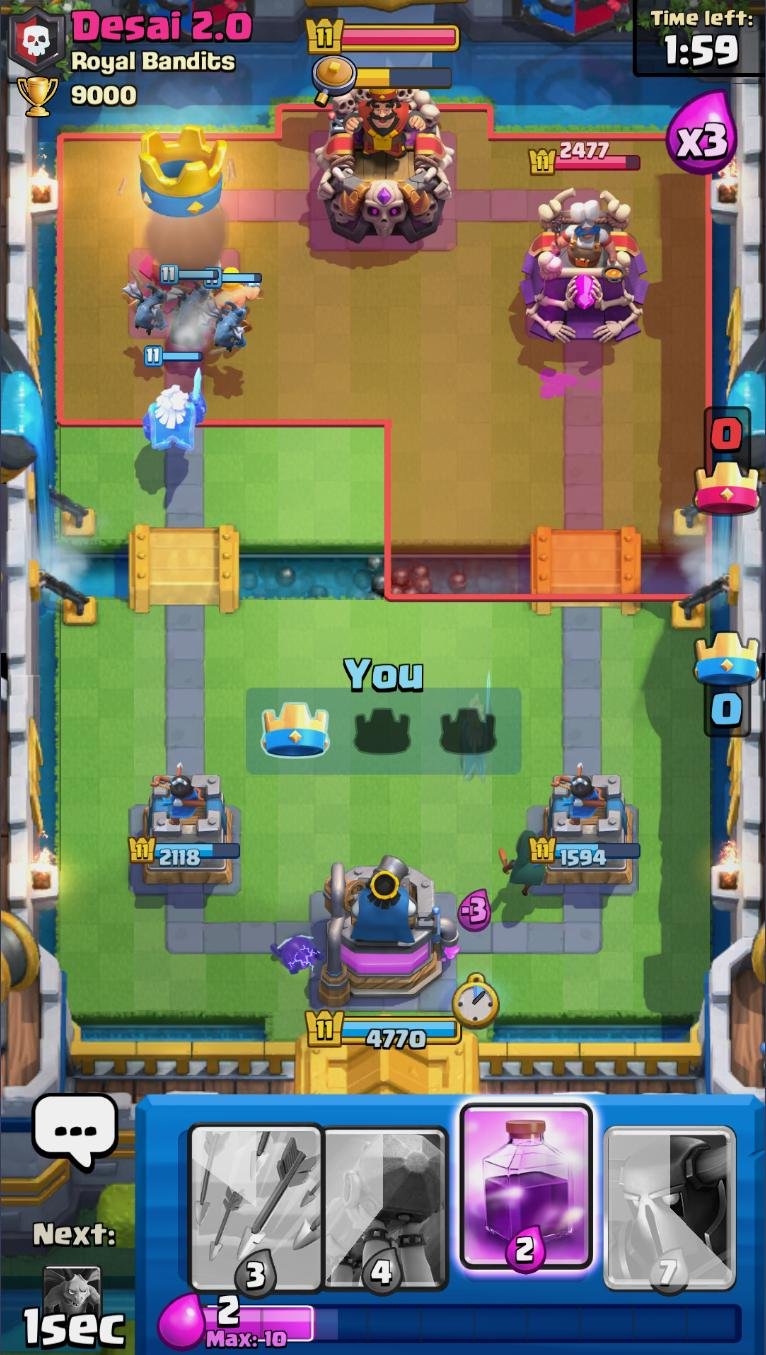ArrowDeck: (173, 1095, 326, 1296)
BattleRamDeck: (326, 1095, 455, 1299)
Chef: (552, 199, 618, 273)
Elixir: (203, 1293, 748, 1351)
EnemyTower: (516, 186, 651, 346)
EnemyTowerBrocken: (129, 210, 244, 274)
EnemyTowerBrockenCrown: (135, 123, 231, 219)
KingTower: (310, 85, 456, 241)
KingTowerHP: (302, 14, 463, 56)
MinionsNext: (38, 1260, 105, 1318)
MyBandit: (498, 828, 548, 899)
MyBarbarian: (206, 266, 263, 311)
MyElectroSpirit: (266, 929, 324, 976)
MyKingHP: (301, 1006, 463, 1053)
MyKingTower: (315, 856, 460, 1008)
MyMinion: (159, 261, 219, 328), (124, 275, 169, 336), (208, 296, 250, 356)
MyPrincessTower: (126, 766, 238, 891), (539, 771, 638, 889)
MyPrincessTowerHP: (525, 830, 642, 868), (126, 835, 243, 868)
MyRoyaleGhost: (141, 344, 209, 454)
PekkaDeck: (599, 1098, 744, 1296)
RageDeck: (450, 1096, 604, 1298)
TowerPrincessHP: (528, 141, 641, 178)
